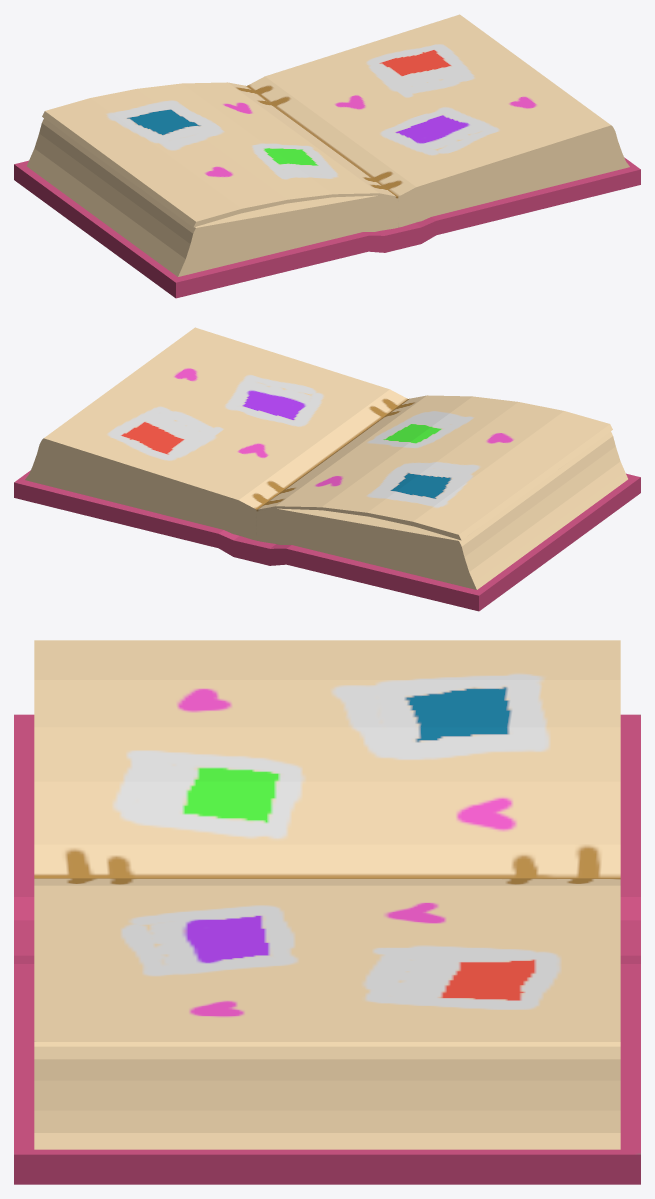
The model's file is Album.fbx.
The picture shows the model from 3 angles, top to bottom: view 1: azimuth 30°, elevation 25°; view 2: azimuth 150°, elevation 25°; view 3: azimuth 270°, elevation 25°; orthographic projection. The views are drawn at different scales.
Parts seen in each view (by area): view 1: PhotoAlbumRoom; view 2: PhotoAlbumRoom; view 3: PhotoAlbumRoom.
Part boxes in pixels (x1,y1,x2,y2): PhotoAlbumRoom: (14, 14, 640, 298); PhotoAlbumRoom: (14, 327, 640, 611); PhotoAlbumRoom: (14, 640, 640, 1184).
Size of the model in its own units: 99.28 by 15.09 by 59.85.
